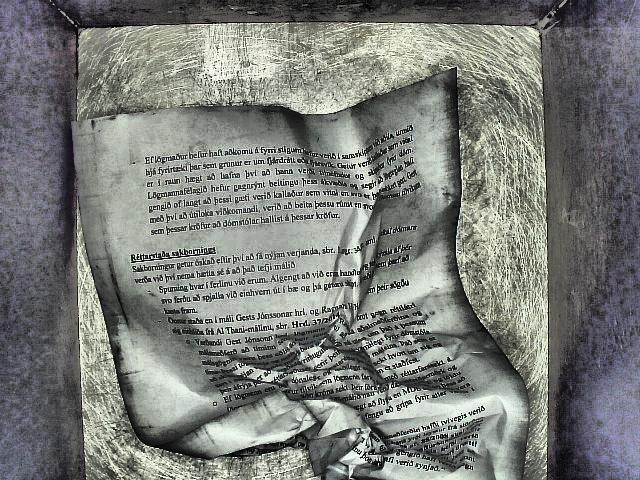Paper: (60, 65, 542, 480)
